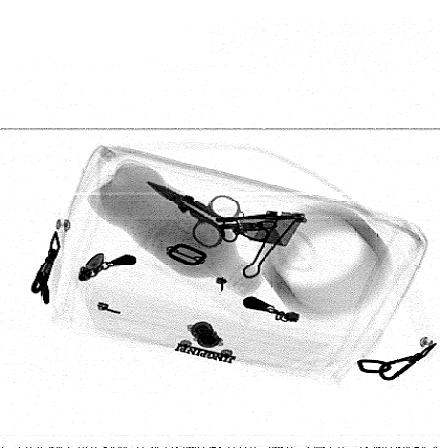Scissors: (144, 180, 242, 250)
